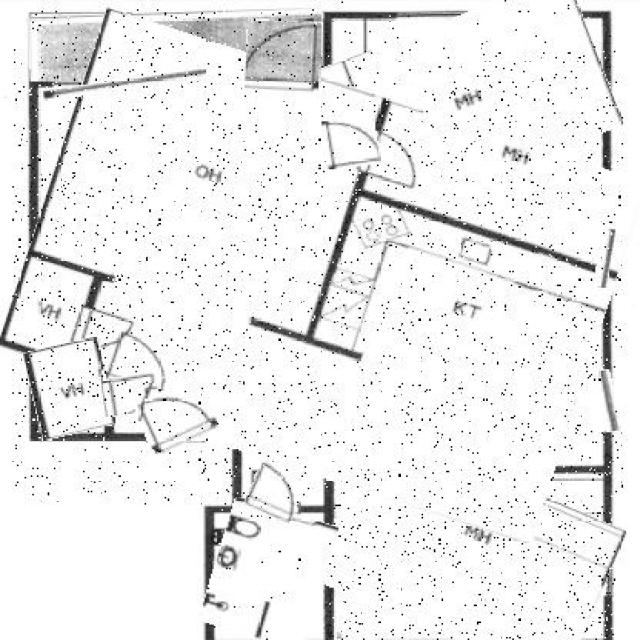door: (246, 20, 320, 97), (138, 383, 216, 449), (246, 465, 305, 523), (325, 115, 380, 168), (102, 374, 162, 415)
window: (43, 74, 208, 95), (597, 371, 618, 432), (597, 228, 612, 288)
zone: (12, 48, 623, 504), (315, 0, 614, 200), (323, 449, 615, 640), (29, 9, 323, 80), (206, 503, 329, 640), (28, 341, 112, 437)
